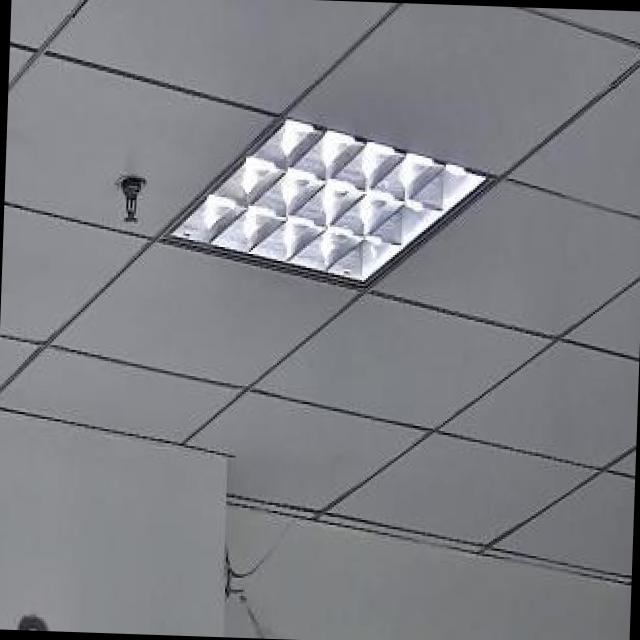Guns: (0, 572, 79, 631)
